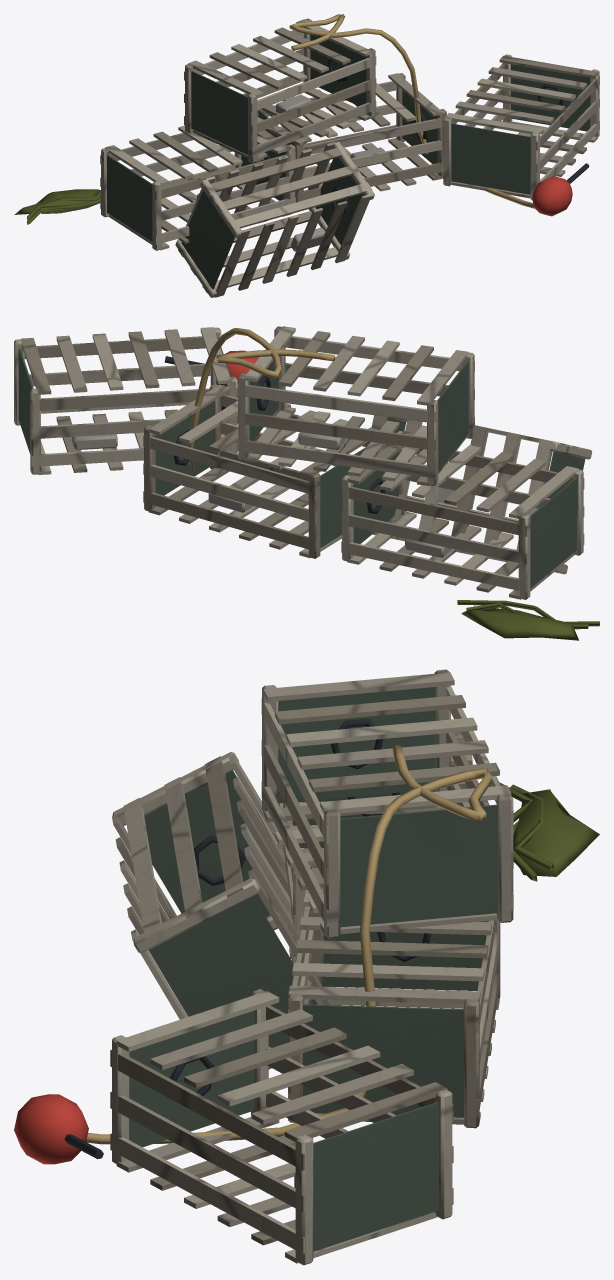
File: lobster_traps.glb
The picture shows the model from 3 angles, top to bottom: view 1: azimuth 30°, elevation 25°; view 2: azimuth 150°, elevation 25°; view 3: azimuth 270°, elevation 25°; orthographic projection. The views are drawn at different scales.
Visible parts, largest first — view 1: lobster_traps; view 2: lobster_traps; view 3: lobster_traps.
Part boxes in pixels (bbox=[...]): lobster_traps: bbox=[14, 14, 599, 297]; lobster_traps: bbox=[14, 326, 599, 640]; lobster_traps: bbox=[14, 669, 599, 1265].
Size of the model in its own units: 3.43 by 1.15 by 1.78.
Materials: 16 (16 with a texture image).
